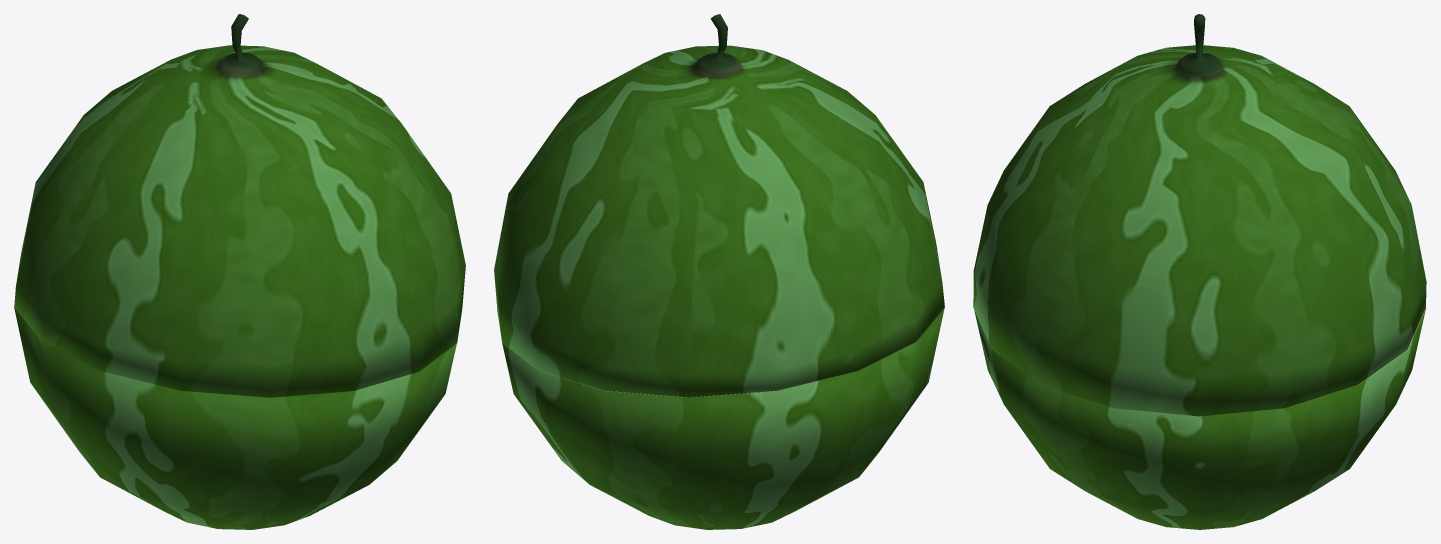
File: Melancia.FBX
The picture shows the model from 3 angles, left to right: view 1: azimuth 30°, elevation 25°; view 2: azimuth 150°, elevation 25°; view 3: azimuth 270°, elevation 25°; orthographic projection.
Parts seen in each view (by area): view 1: MELANCIA_UP, MELANCIA_DOWN; view 2: MELANCIA_UP, MELANCIA_DOWN; view 3: MELANCIA_UP, MELANCIA_DOWN.
Part boxes in pixels (bbox=[...]): MELANCIA_UP: bbox=[14, 14, 465, 397]; MELANCIA_DOWN: bbox=[14, 307, 456, 529]; MELANCIA_UP: bbox=[494, 14, 944, 397]; MELANCIA_DOWN: bbox=[497, 308, 944, 529]; MELANCIA_UP: bbox=[973, 14, 1426, 416]; MELANCIA_DOWN: bbox=[974, 308, 1425, 529].
Size of the model in its own units: 21.7 by 26.12 by 21.6.
Materials: 1 (1 with a texture image).
